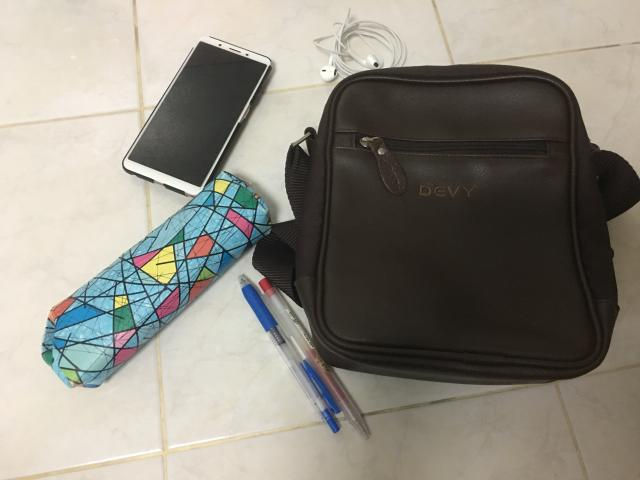Mobile phone: (122, 34, 271, 196)
Pen: (239, 275, 369, 439)
wire: (314, 10, 406, 82)
